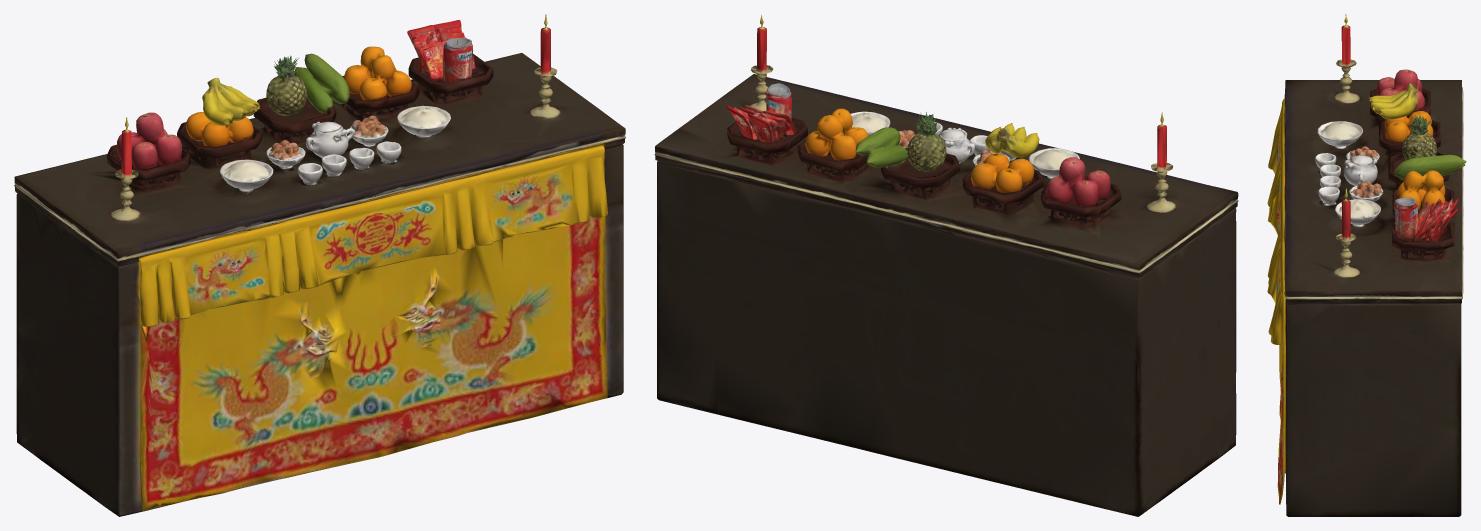
File: table.glb
The picture shows the model from 3 angles, left to right: view 1: azimuth 30°, elevation 25°; view 2: azimuth 150°, elevation 25°; view 3: azimuth 270°, elevation 25°; orthographic projection. The views are drawn at different scales.
Visible parts, largest first — view 1: tripo_node_fd589b15-250b-49f4-9522-820e0049aed6; view 2: tripo_node_fd589b15-250b-49f4-9522-820e0049aed6; view 3: tripo_node_fd589b15-250b-49f4-9522-820e0049aed6.
Part boxes in pixels (x1,y1,x2,y2): tripo_node_fd589b15-250b-49f4-9522-820e0049aed6: (14, 14, 625, 516); tripo_node_fd589b15-250b-49f4-9522-820e0049aed6: (654, 14, 1238, 516); tripo_node_fd589b15-250b-49f4-9522-820e0049aed6: (1267, 14, 1466, 516).
Size of the model in its own units: 0.36 by 0.2495 by 0.1428.
1 material, 1 textured.
